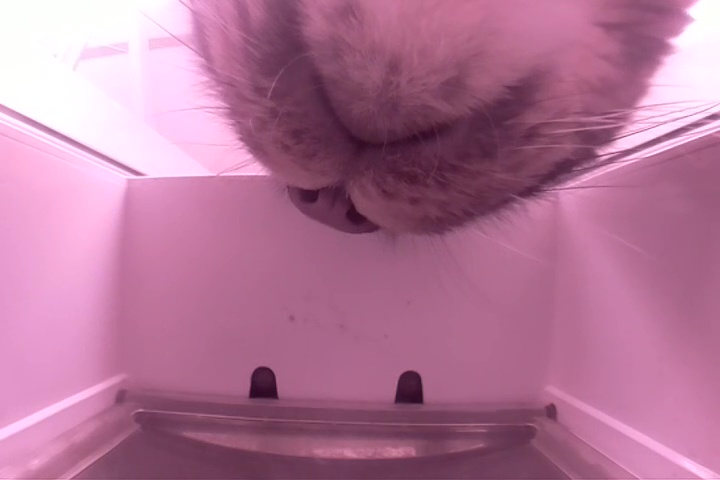Snout: (248, 16, 551, 239)
